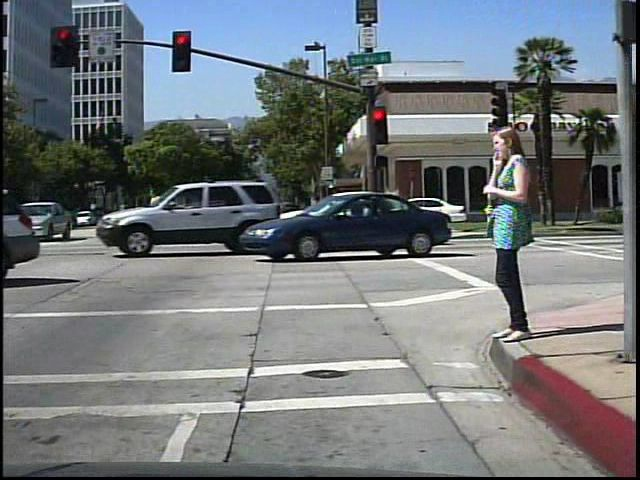person: (478, 117, 537, 349)
